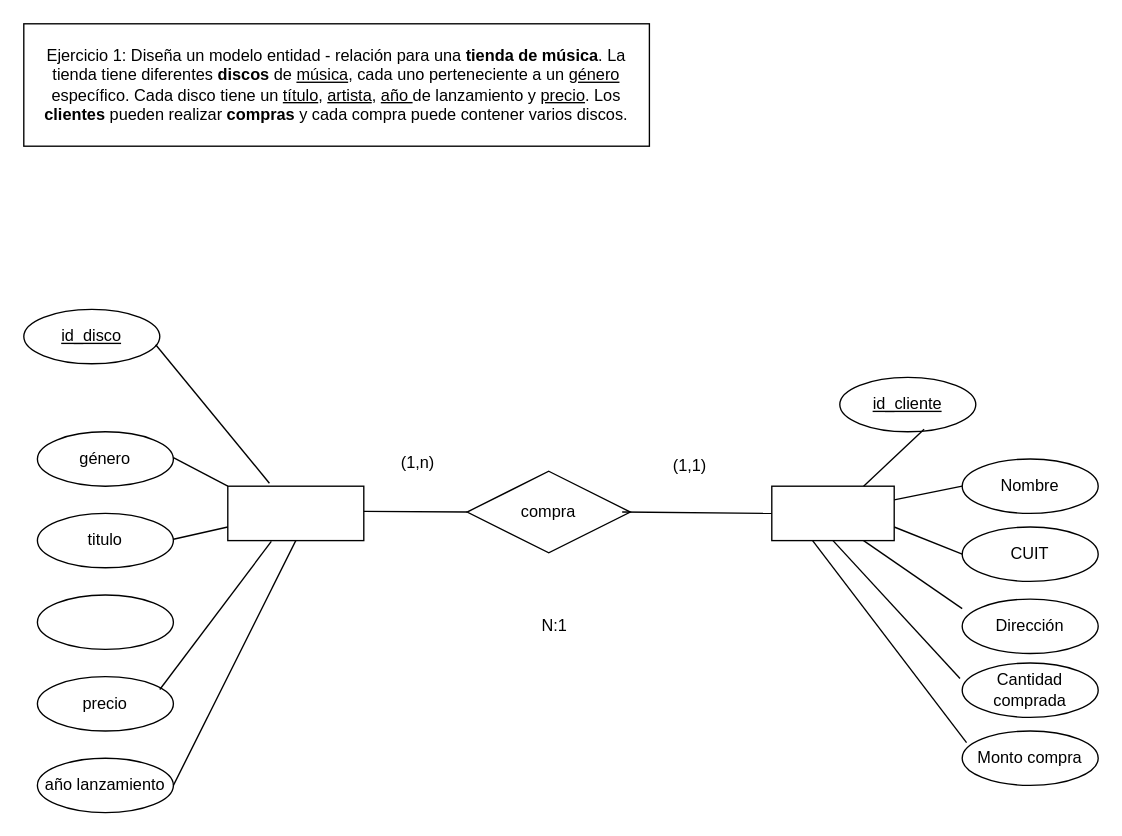
Image size: 1122x836. Some labels were removed from this diagram. Here are the shapes that lost their labels. From the top down, the centre of each, then its label:
(x=295, y=513): Discos
(x=832, y=513): Clientes
(x=104, y=621): artista
